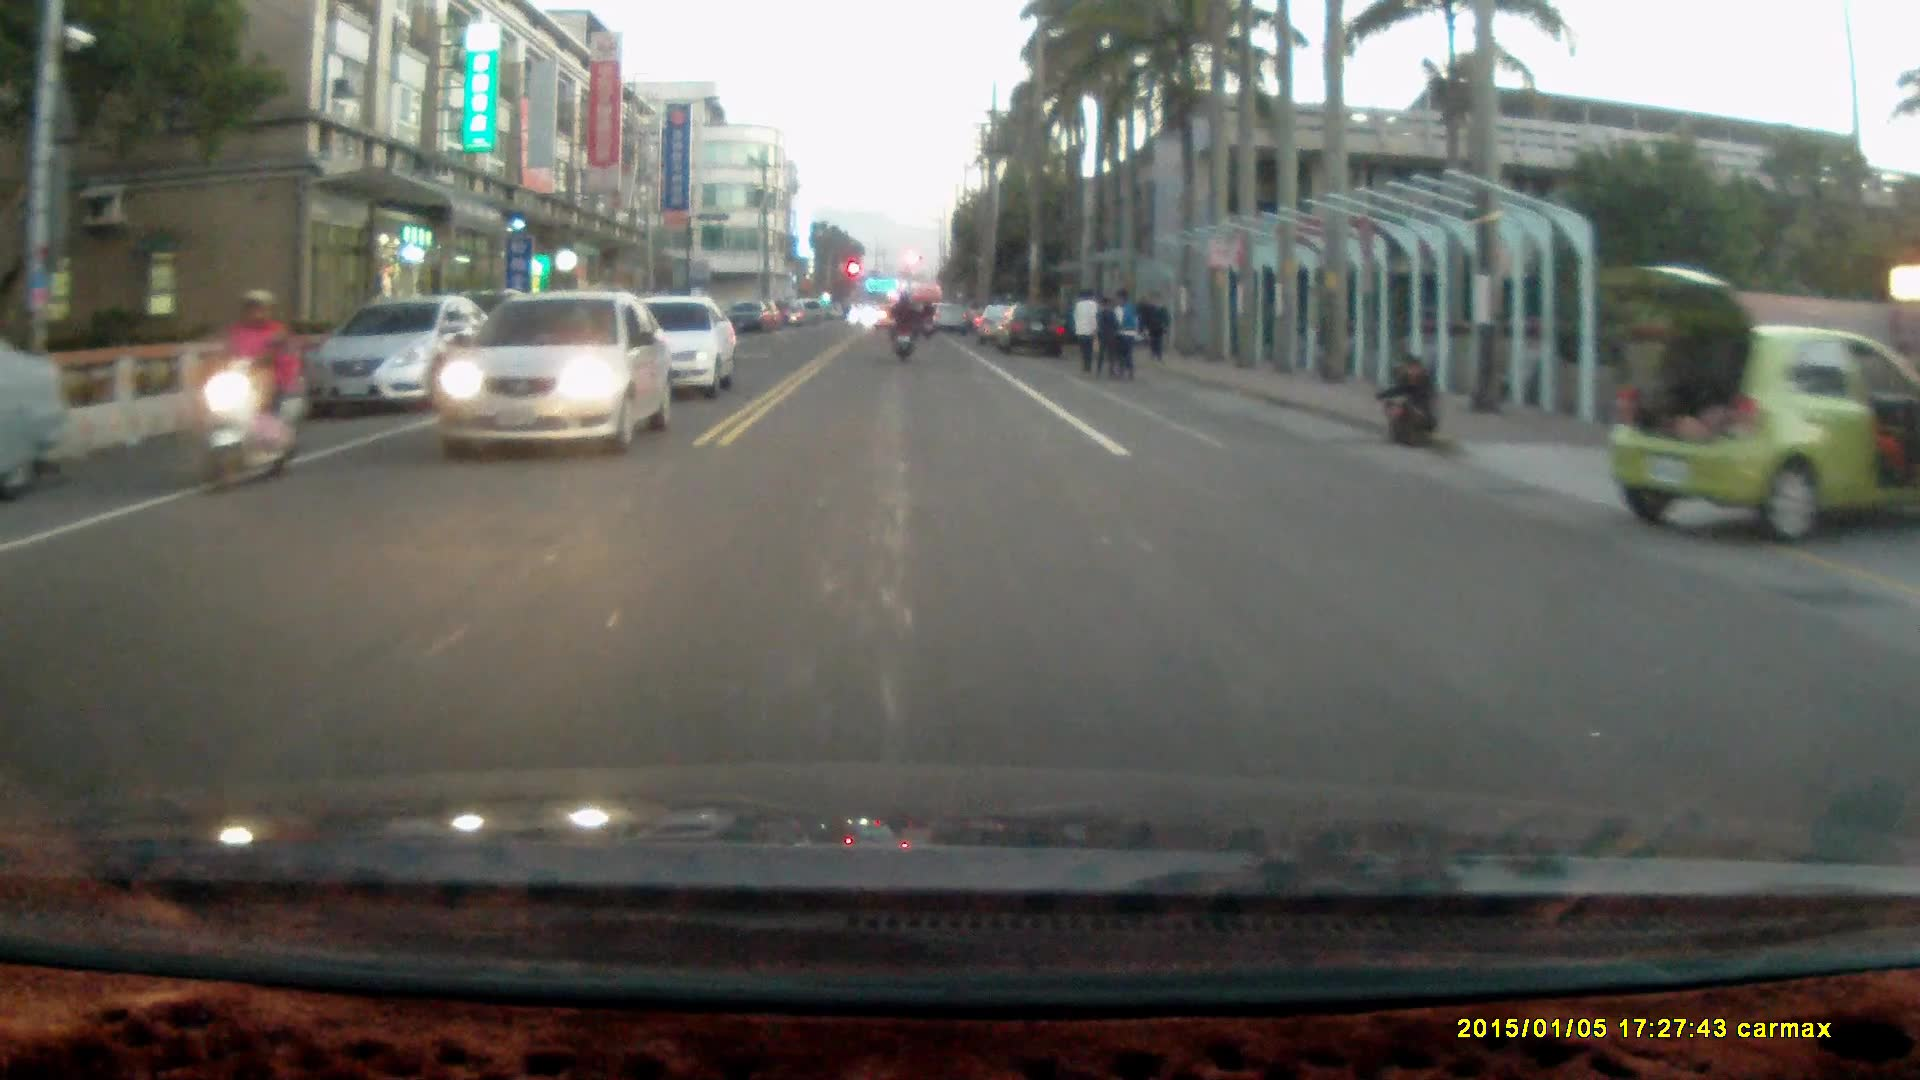pedestrian: (1376, 351, 1442, 446), (1102, 283, 1145, 380), (1072, 279, 1102, 375), (1092, 291, 1121, 379), (1143, 289, 1173, 360)
rider: (201, 284, 311, 493), (885, 286, 919, 362)
vehicle: (1604, 261, 1920, 548), (430, 283, 674, 453), (313, 295, 492, 420), (631, 295, 740, 400), (994, 302, 1071, 356)
